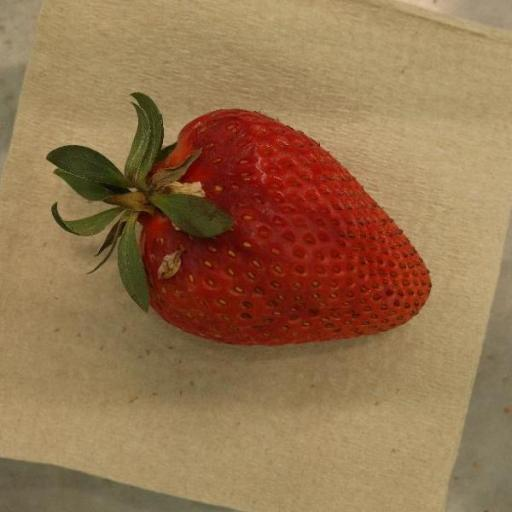Strawberry: (47, 93, 433, 347)
